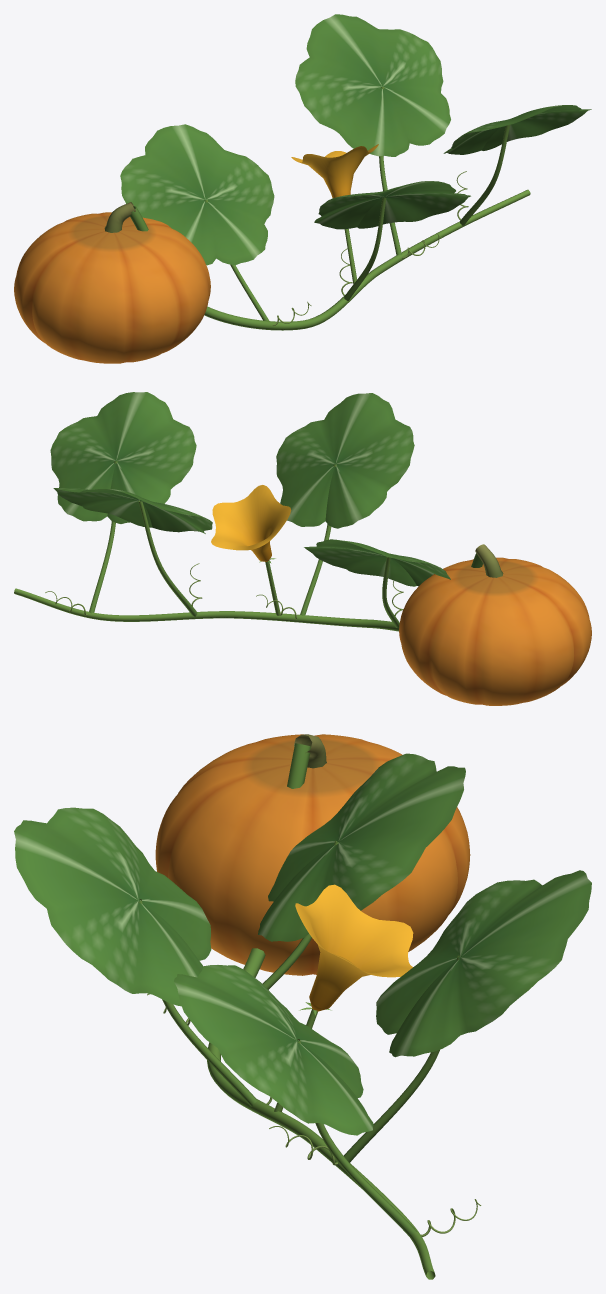
File: 54_Qovoqdoshlar.glb
The picture shows the model from 3 angles, top to bottom: view 1: azimuth 30°, elevation 25°; view 2: azimuth 150°, elevation 25°; view 3: azimuth 270°, elevation 25°; orthographic projection. The views are drawn at different scales.
Visible parts, largest first — view 1: leaf, fruit, stem, petal; view 2: leaf, fruit, stem, petal; view 3: leaf, fruit, stem, petal.
Part boxes in pixels (left/top/right/bottom): leaf: left=120, top=14, right=591, bottom=265; fruit: left=14, top=212, right=210, bottom=363; stem: left=104, top=87, right=530, bottom=330; petal: left=291, top=144, right=378, bottom=198; leaf: left=50, top=392, right=450, bottom=586; fruit: left=399, top=557, right=591, bottom=705; stem: left=14, top=461, right=503, bottom=631; petal: left=211, top=485, right=291, bottom=561; leaf: left=14, top=753, right=591, bottom=1135; fruit: left=155, top=734, right=470, bottom=975; stem: left=138, top=734, right=481, bottom=1279; petal: left=295, top=884, right=413, bottom=1011.
Size of the model in its own units: 1.03 by 0.3455 by 0.5877.
